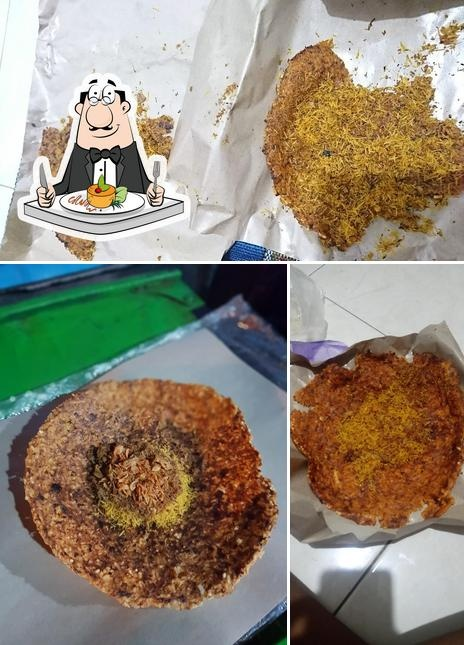kerak_telor: (23, 380, 279, 610)
